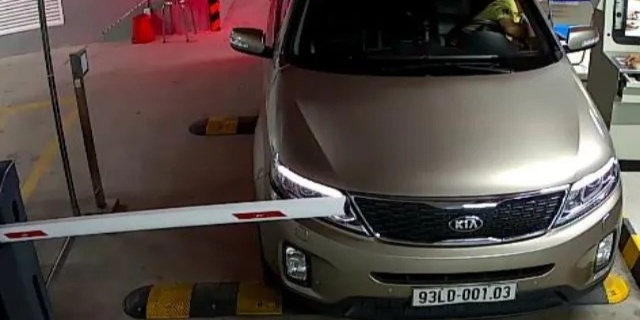bien_so: (412, 284, 516, 303)
